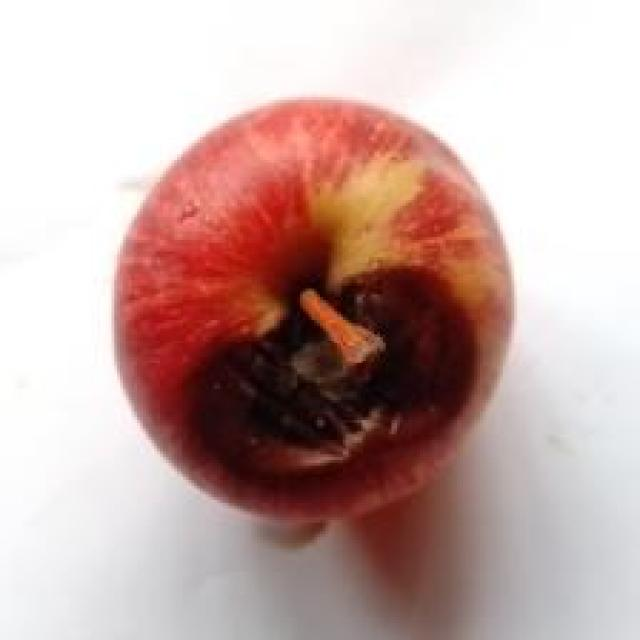rotten apple: (71, 67, 584, 588)
